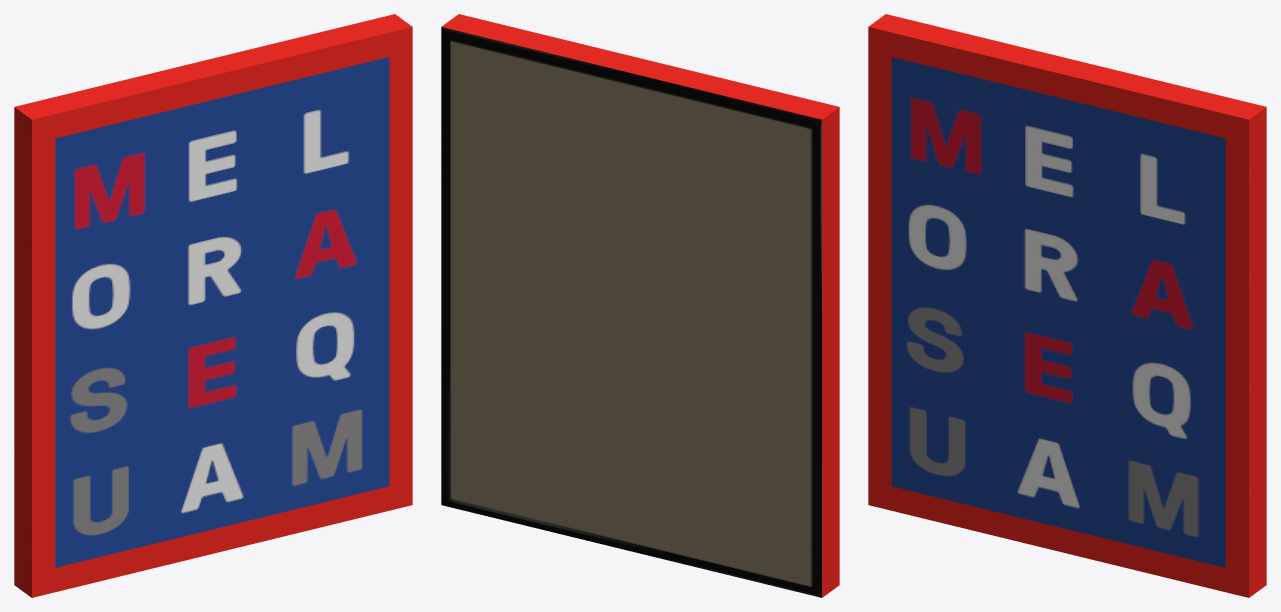
Rendered from poster8.FBX.
3 renders of one model, left to right at view 1: azimuth 30°, elevation 25°; view 2: azimuth 150°, elevation 25°; view 3: azimuth 330°, elevation 25°, orthographic.
Parts seen in each view (by area): view 1: poster8; view 2: poster8; view 3: poster8.
Boxes of the visible parts, left/top/right/bottom form: poster8: left=14, top=14, right=412, bottom=597; poster8: left=441, top=14, right=839, bottom=597; poster8: left=868, top=14, right=1266, bottom=597.
Bounding box in the file's own units: 5 × 6 × 0.4.
